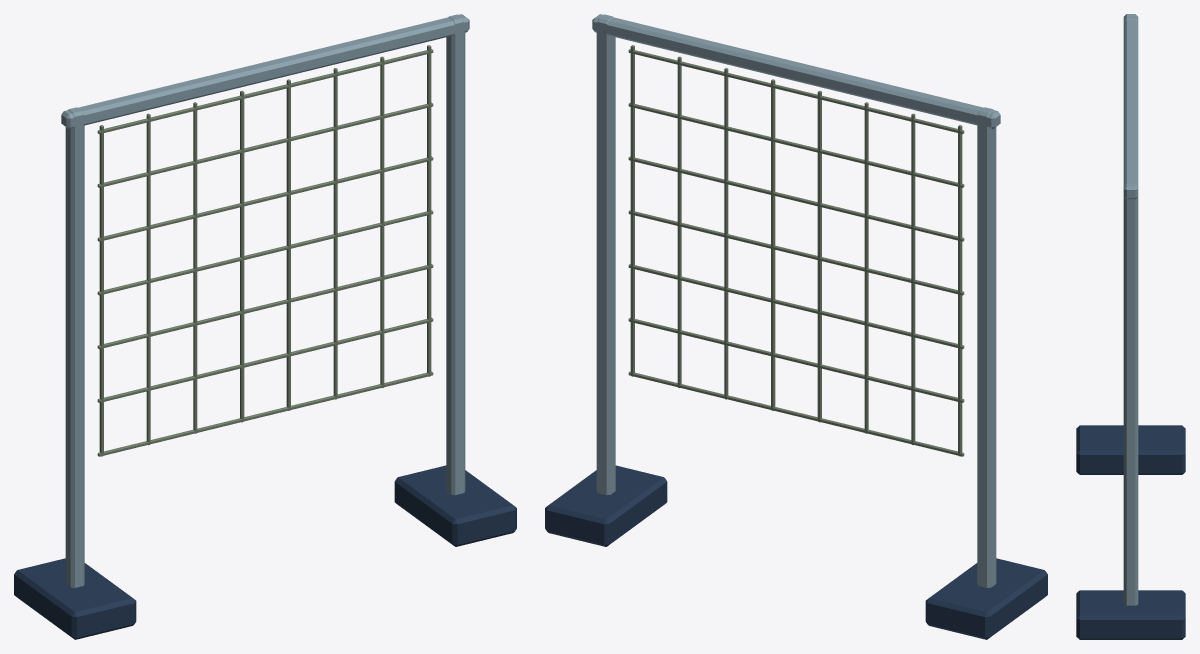
Rendered from drying_net_rack.glb.
3 renders of one model, left to right at view 1: azimuth 30°, elevation 25°; view 2: azimuth 150°, elevation 25°; view 3: azimuth 270°, elevation 25°, orthographic. The views are drawn at different scales.
Visible parts, largest first — view 1: rack_pole (×2), net_vertical (×8), rack_base (×2), net_horizontal (×7), rack_topbar; view 2: rack_pole (×2), net_vertical (×8), rack_base (×2), net_horizontal (×7), rack_topbar; view 3: rack_base (×2), rack_pole, rack_topbar.
Boxes of the visible parts, bbox=[...] form: rack_pole (×2): bbox=[65, 14, 465, 587]; net_vertical (×8): bbox=[99, 45, 431, 456]; rack_base (×2): bbox=[14, 465, 516, 639]; net_horizontal (×7): bbox=[97, 49, 433, 456]; rack_topbar: bbox=[61, 14, 469, 129]; rack_pole (×2): bbox=[596, 14, 996, 587]; net_vertical (×8): bbox=[630, 45, 962, 456]; rack_base (×2): bbox=[545, 465, 1047, 639]; net_horizontal (×7): bbox=[628, 49, 964, 456]; rack_topbar: bbox=[592, 14, 1000, 129]; rack_base (×2): bbox=[1076, 425, 1185, 639]; rack_pole: bbox=[1123, 180, 1138, 605]; rack_topbar: bbox=[1123, 14, 1138, 199].
Bounding box in the file's own units: 1.17 × 1.26 × 0.28.
